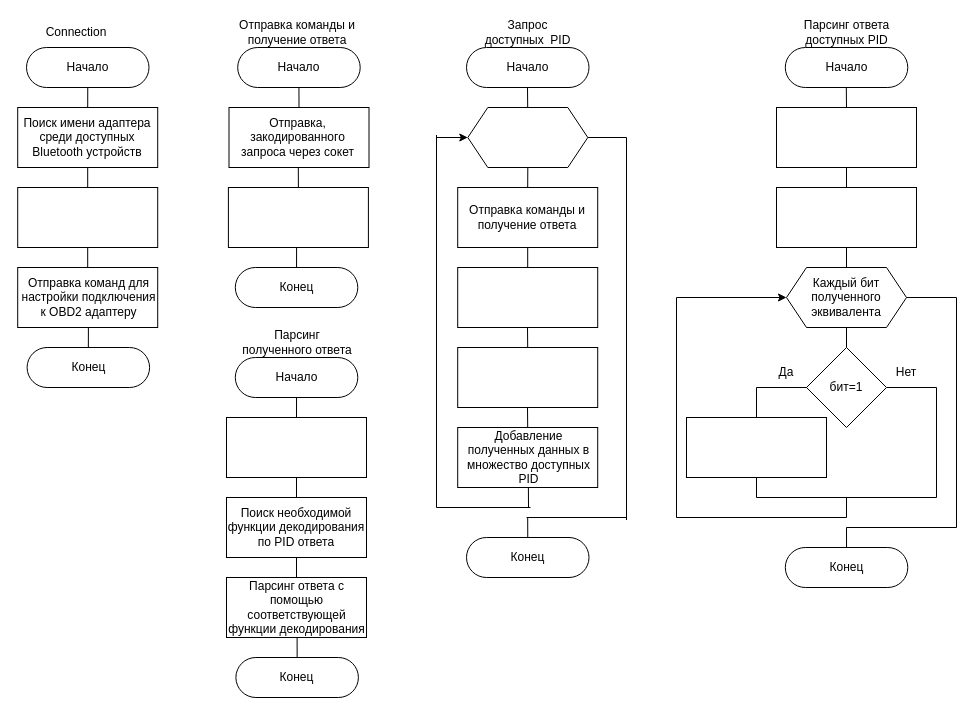
This 975x715 diagram has some shape labels left out. The box of each missing label's shape, as (x1, y1, x2, y2) in pixels:
Добавить в список поддерживаемых PID, PID соответствующий этому биту: (686, 416, 826, 478)
Каждую команду запрос: (467, 106, 588, 168)
Очистка ответа от ненужных символов: (457, 266, 598, 328)
Парсинг полученного чистого ответа: (457, 346, 598, 408)
Перевод шестнадцатеричной строки в ее двоичный эквивалент: (776, 186, 916, 248)
Подключение к найденному сканнеру по MAC-адресу: (17, 186, 158, 248)
Получение ответа от сканнера на сокете: (227, 186, 368, 248)
Разделение ответа на части: (226, 416, 366, 478)
Удаление первых 4 HEX символов: (776, 106, 916, 168)
